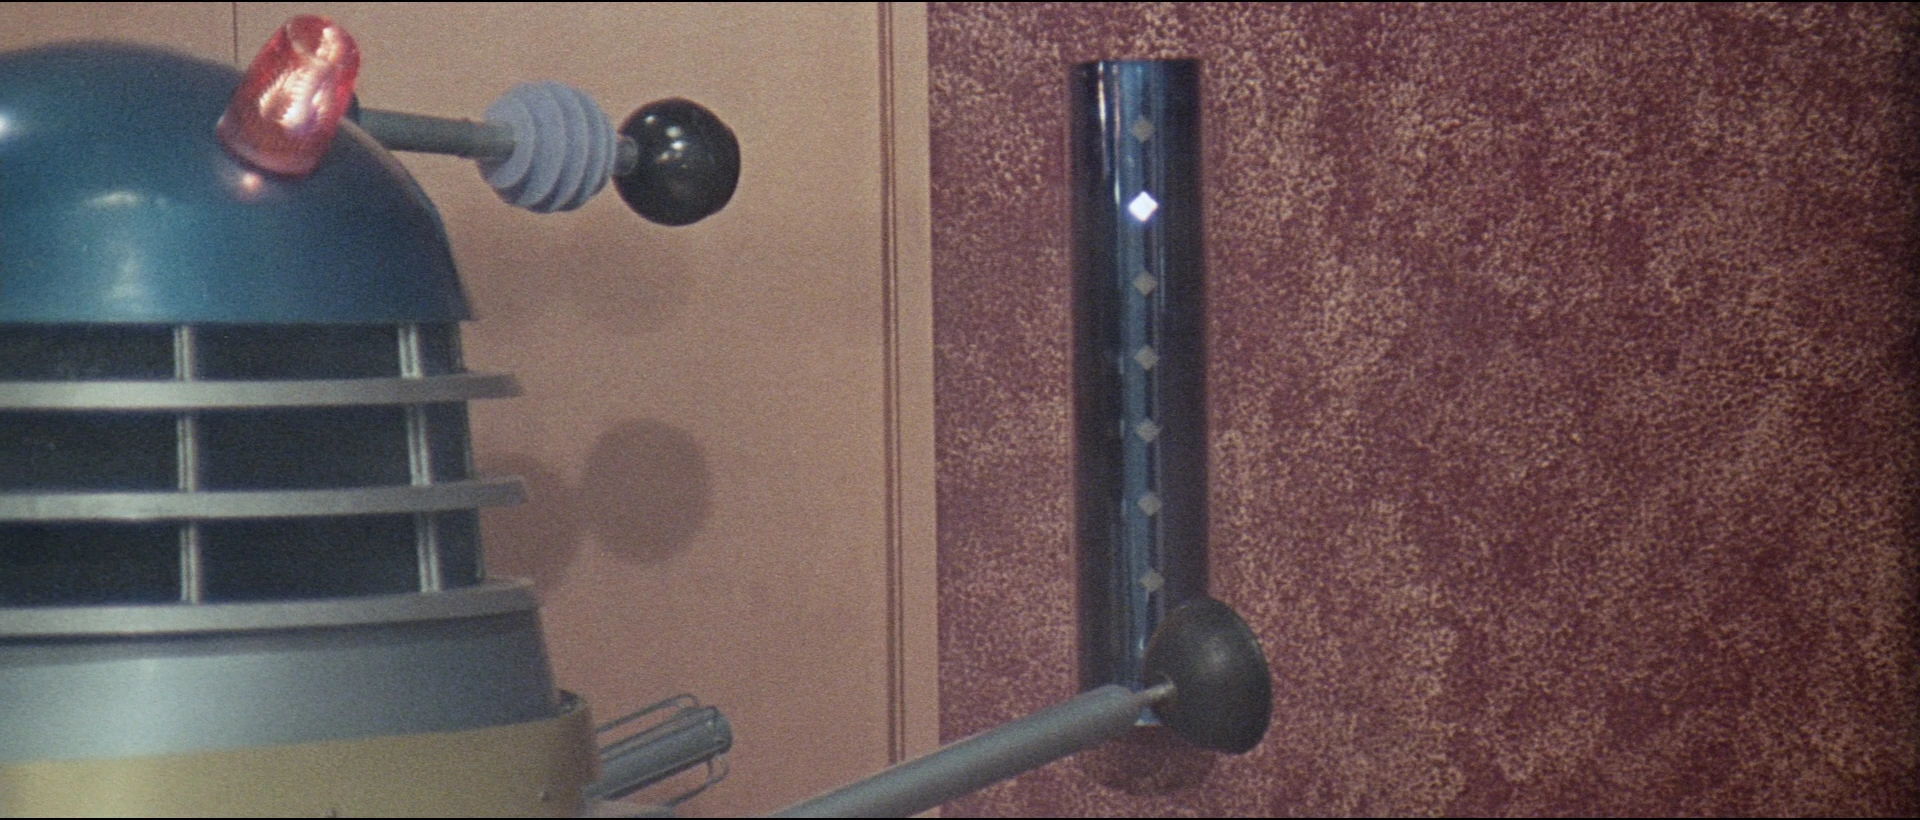Dalek: (0, 4, 738, 792)
